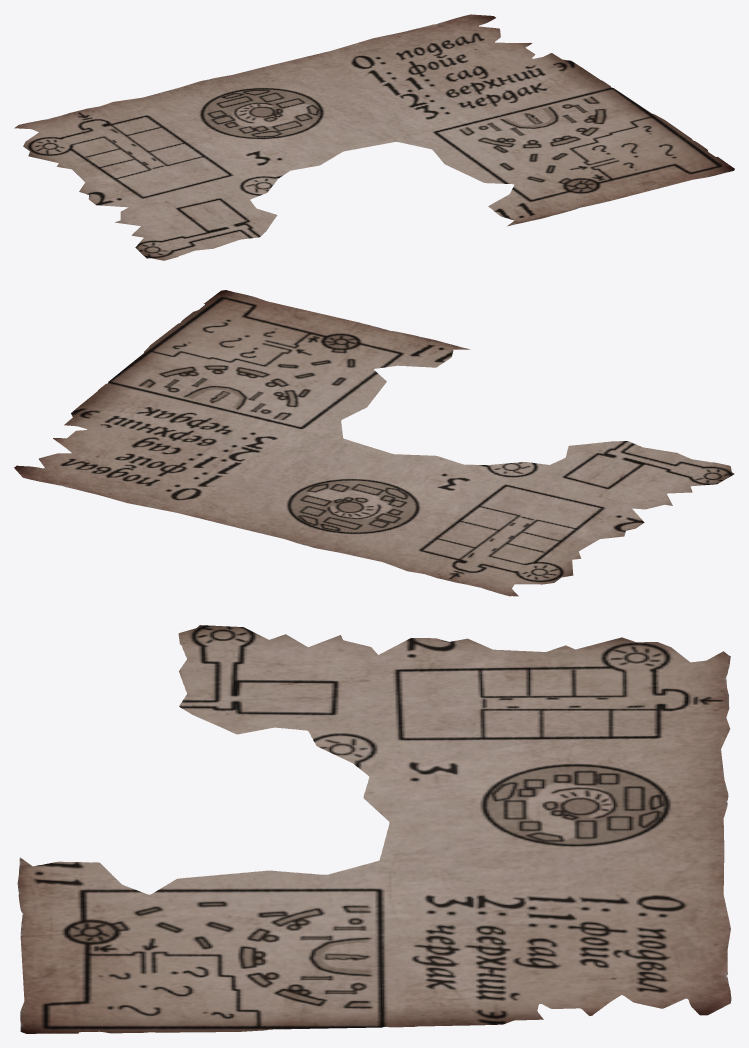
Rendered from map_3.fbx.
The picture shows the model from 3 angles, top to bottom: view 1: azimuth 30°, elevation 25°; view 2: azimuth 150°, elevation 25°; view 3: azimuth 270°, elevation 25°; orthographic projection. The views are drawn at different scales.
Parts seen in each view (by area): view 1: Plane; view 2: Plane; view 3: Plane.
Part boxes in pixels (x1=…): Plane: x1=14, y1=14, x2=734, y2=260; Plane: x1=14, y1=290, x2=734, y2=596; Plane: x1=17, y1=625, x2=731, y2=1033.
Bounding box in the file's own units: 497 × 6.04e-05 × 371.
